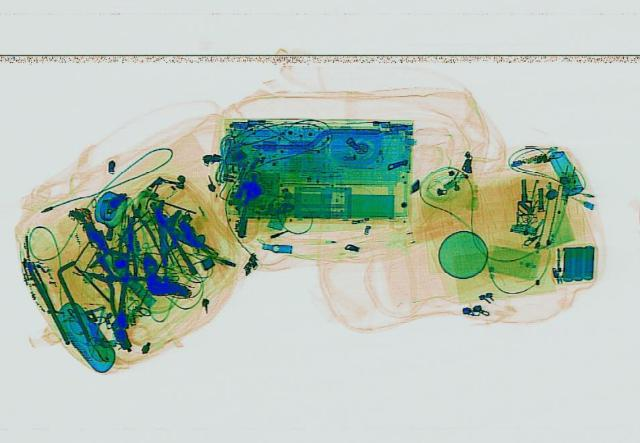Pliers: (107, 199, 167, 272)
